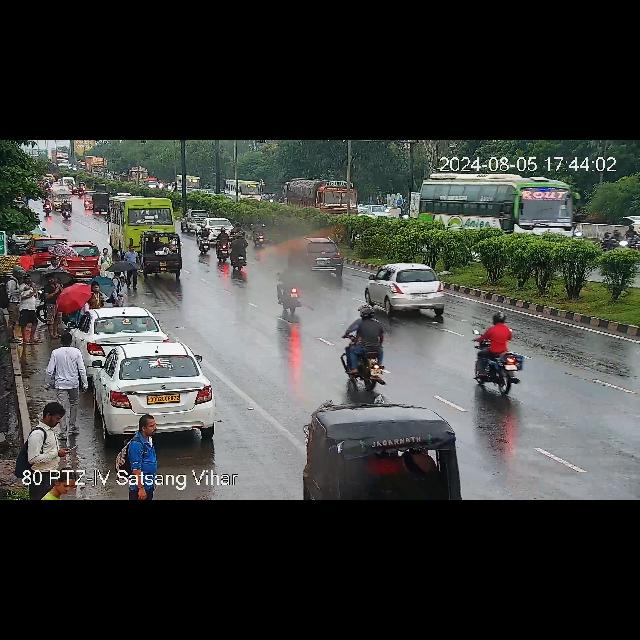bus: (410, 167, 578, 240), (106, 195, 182, 252), (220, 178, 262, 202), (178, 172, 200, 192)
car: (297, 404, 467, 500), (90, 343, 214, 439), (364, 264, 446, 316), (80, 306, 162, 354), (20, 238, 101, 274), (296, 236, 346, 284), (138, 234, 186, 278)
motorcycle: (336, 297, 390, 393), (468, 314, 522, 394), (276, 262, 304, 312), (602, 224, 638, 250), (230, 233, 248, 271), (196, 228, 214, 256), (216, 228, 228, 264), (252, 218, 264, 246)
person: (48, 340, 88, 410), (31, 402, 65, 471), (121, 414, 159, 472), (20, 274, 38, 344), (8, 268, 22, 342), (46, 274, 62, 336), (44, 476, 84, 500), (110, 266, 124, 308), (125, 244, 138, 288), (86, 282, 105, 308), (100, 247, 110, 277), (50, 252, 60, 270)
truck: (284, 178, 362, 215), (121, 167, 151, 185)
